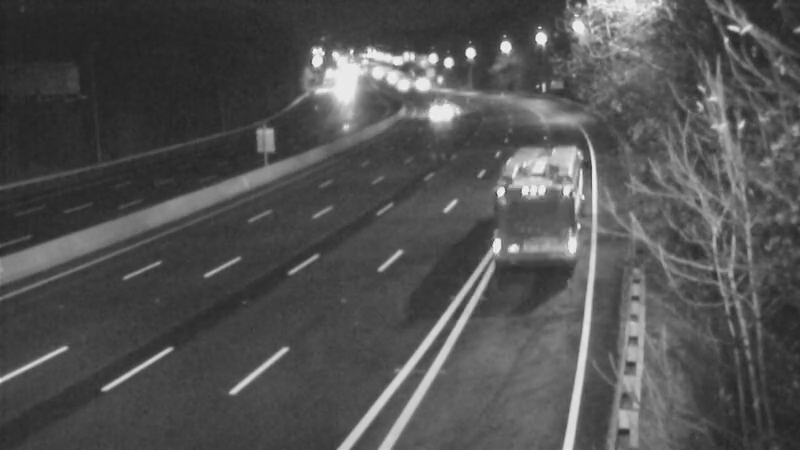vehicle: (473, 191, 553, 271), (352, 47, 402, 97), (374, 60, 424, 110), (394, 58, 444, 108), (416, 89, 466, 139), (320, 71, 370, 121)
